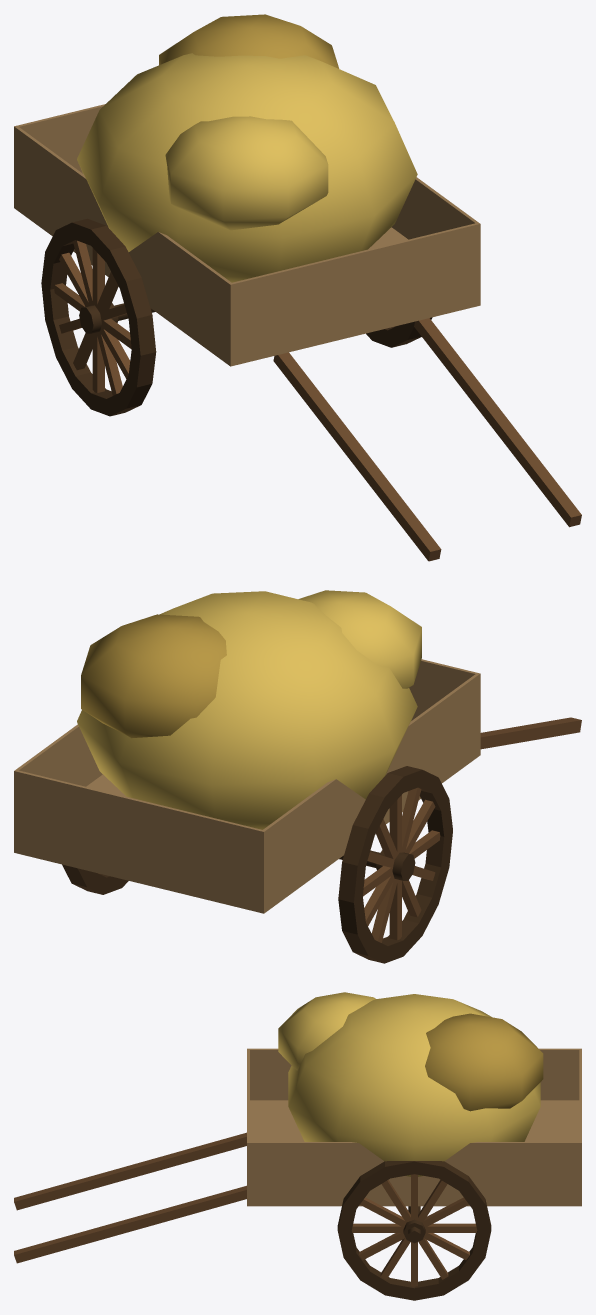
File: mv_hay_cart.glb
The picture shows the model from 3 angles, top to bottom: view 1: azimuth 30°, elevation 25°; view 2: azimuth 150°, elevation 25°; view 3: azimuth 270°, elevation 25°; orthographic projection. The views are drawn at different scales.
Visible parts, largest first — view 1: mv_hay_cart; view 2: mv_hay_cart; view 3: mv_hay_cart.
Part boxes in pixels (x1,y1,x2,y2): mv_hay_cart: (14, 14, 581, 561); mv_hay_cart: (14, 590, 581, 963); mv_hay_cart: (14, 992, 581, 1300).
Bounding box in the file's own units: 2.03 × 1.88 × 4.07.
